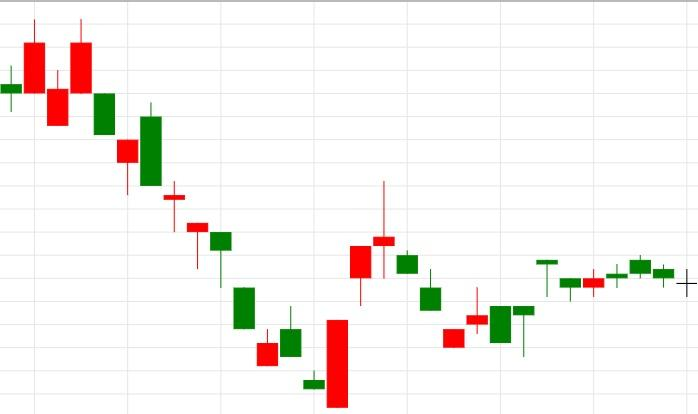bullish_engulfing_rise: (69, 18, 349, 409)
